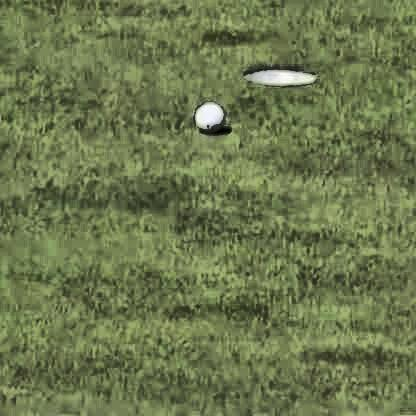golfball: (190, 101, 223, 132)
